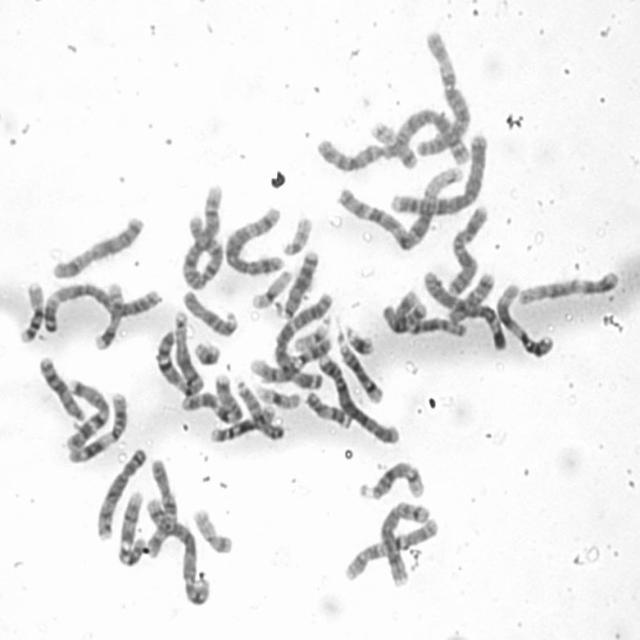A1: (334, 162, 466, 252), (149, 309, 207, 399)
A2: (313, 106, 473, 174), (178, 179, 227, 293)
A3: (40, 278, 166, 334), (270, 289, 336, 392)
B4: (387, 130, 490, 218), (313, 348, 401, 447)
B5: (141, 492, 212, 606), (222, 202, 289, 278)
C10: (341, 513, 441, 583), (144, 455, 180, 557)
C11: (491, 277, 556, 359), (63, 387, 130, 464)
C12: (513, 265, 623, 307), (380, 299, 469, 339)
C6: (418, 25, 474, 163), (419, 267, 509, 352)
C7: (63, 375, 112, 452), (176, 375, 247, 425)
C8: (92, 442, 149, 542), (373, 497, 433, 588)
C9: (248, 335, 334, 386), (113, 485, 147, 569)
D13: (35, 351, 89, 424), (275, 245, 321, 321)
D14: (333, 338, 386, 404), (355, 457, 428, 502)
D15: (234, 377, 287, 441), (179, 285, 241, 338)
E16: (206, 401, 278, 444), (14, 275, 46, 345)
E17: (90, 279, 126, 351), (302, 387, 353, 430)
E18: (443, 267, 497, 326), (379, 298, 426, 334)
F19: (248, 265, 294, 311), (252, 378, 302, 411)
F20: (366, 118, 420, 170), (190, 504, 234, 555)
G21: (341, 321, 376, 357), (190, 336, 222, 367)
G22: (289, 316, 334, 353), (278, 211, 314, 257)
X: (48, 211, 147, 280), (445, 200, 491, 297)
